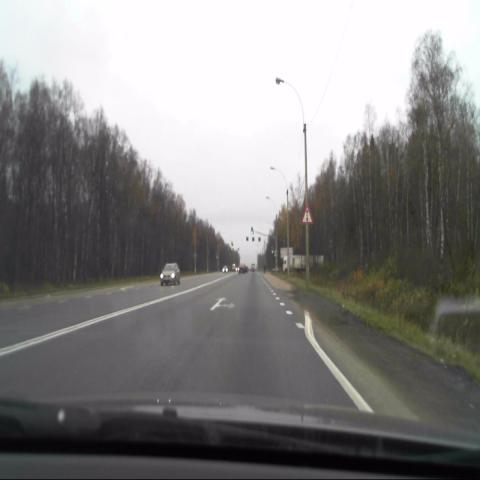1_8: (300, 203, 314, 225)
